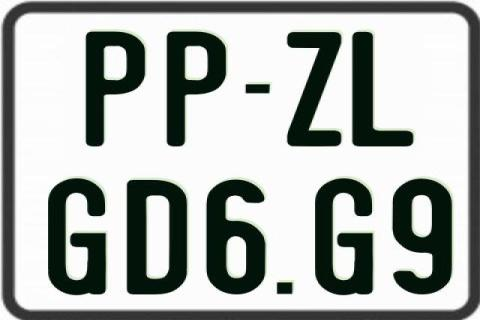0: (389, 179, 453, 299), (205, 178, 266, 296)
D: (128, 180, 193, 298)
G: (46, 176, 110, 298), (312, 177, 375, 297)
L: (350, 30, 415, 148)
P: (165, 29, 229, 145), (86, 29, 147, 145)
Z: (284, 31, 344, 147)
